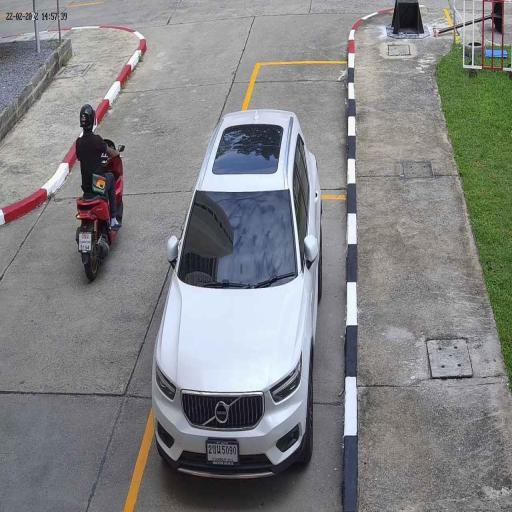car: (151, 106, 324, 482)
motorcycle: (75, 178, 125, 284)
